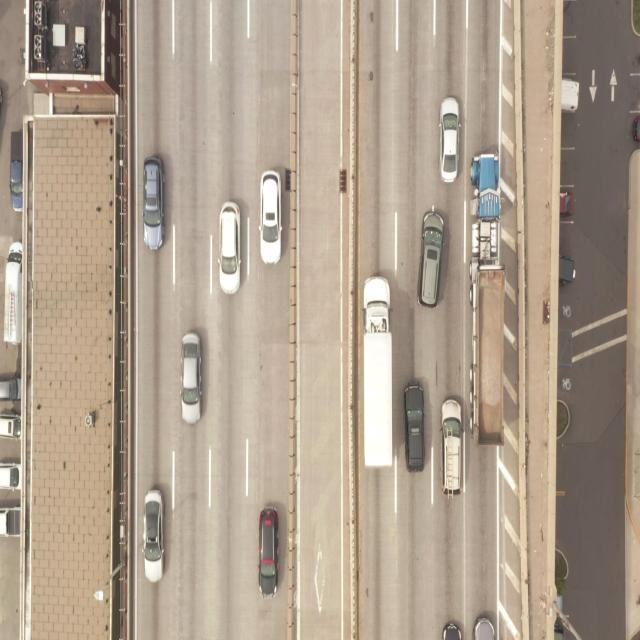Car: (417, 212, 444, 308), (259, 172, 283, 266), (218, 202, 242, 293), (441, 398, 463, 495), (143, 158, 166, 250), (181, 333, 204, 424), (144, 491, 166, 583), (403, 382, 425, 472), (438, 97, 461, 181), (258, 507, 279, 599), (0, 461, 22, 491), (473, 615, 495, 640), (0, 375, 21, 401), (559, 257, 576, 289), (0, 414, 22, 438), (441, 622, 463, 640), (560, 191, 574, 217), (630, 116, 640, 141)
Truck: (469, 151, 506, 448), (363, 277, 392, 468), (10, 130, 23, 214), (0, 507, 22, 536)
Van: (4, 240, 25, 345), (560, 78, 579, 113)
